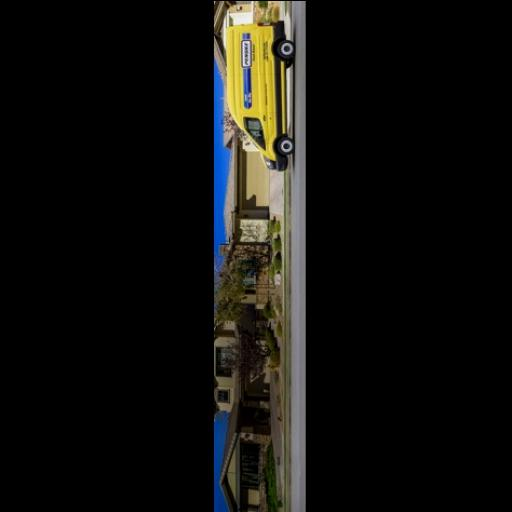van: (226, 20, 296, 170)
